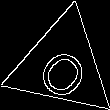O_NE: (30, 32, 94, 99)
